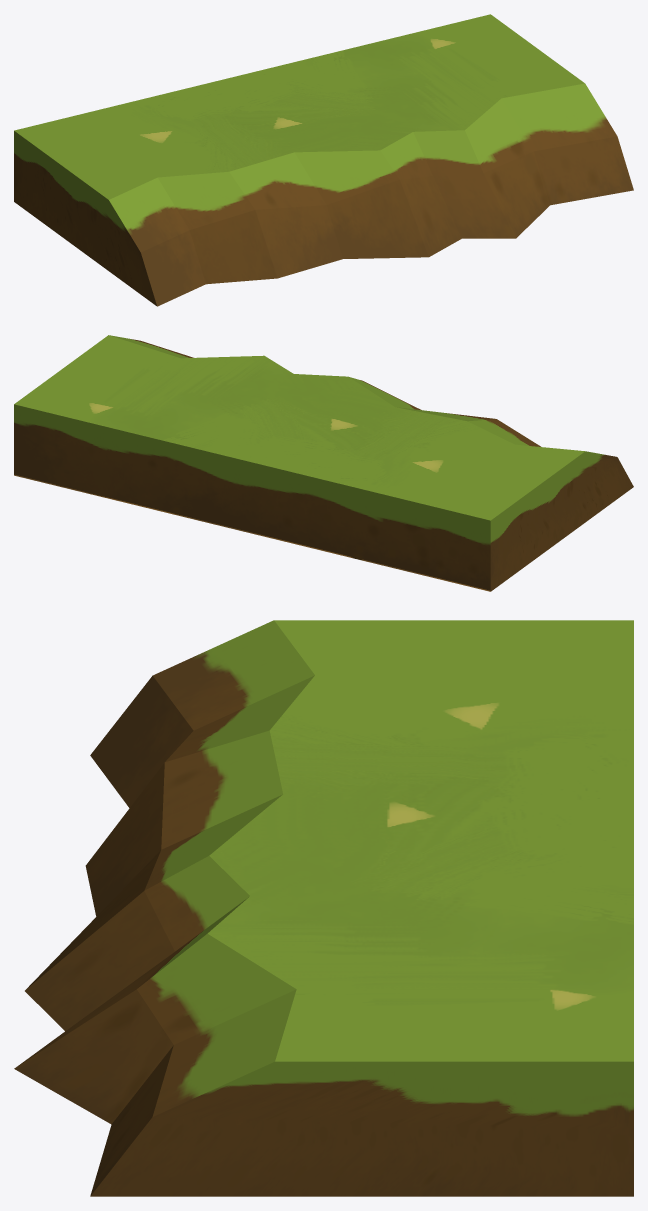
Rendered from cliff.fbx.
The picture shows the model from 3 angles, top to bottom: view 1: azimuth 30°, elevation 25°; view 2: azimuth 150°, elevation 25°; view 3: azimuth 270°, elevation 25°; orthographic projection. The views are drawn at different scales.
Parts seen in each view (by area): view 1: cliff; view 2: cliff; view 3: cliff.
Part boxes in pixels (x1=…): cliff: x1=14, y1=14, x2=633, y2=306; cliff: x1=14, y1=335, x2=633, y2=591; cliff: x1=14, y1=620, x2=633, y2=1196.
Size of the model in its own units: 200 by 28.57 by 119.
1 material, 1 textured.
